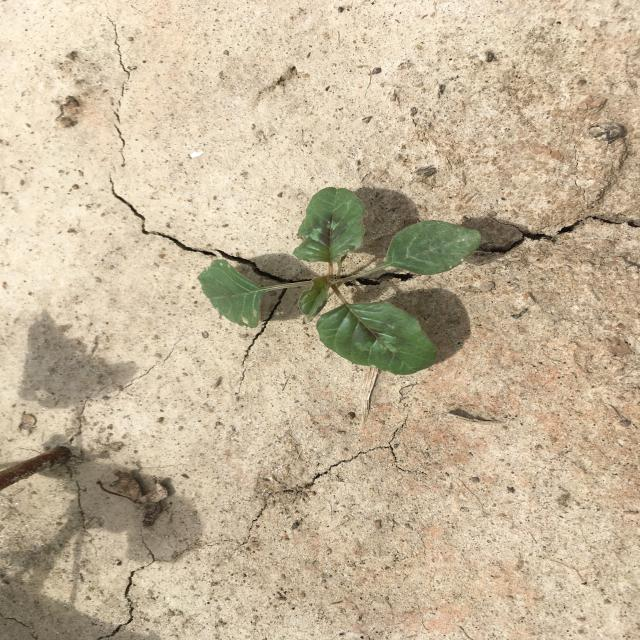PalmerAmaranth: (198, 187, 482, 375)
